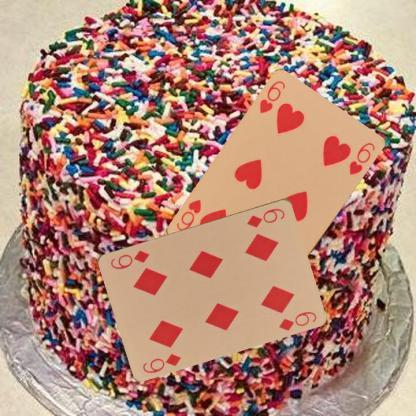6d: (140, 350, 182, 375), (244, 206, 286, 228)
6h: (256, 78, 288, 116)
